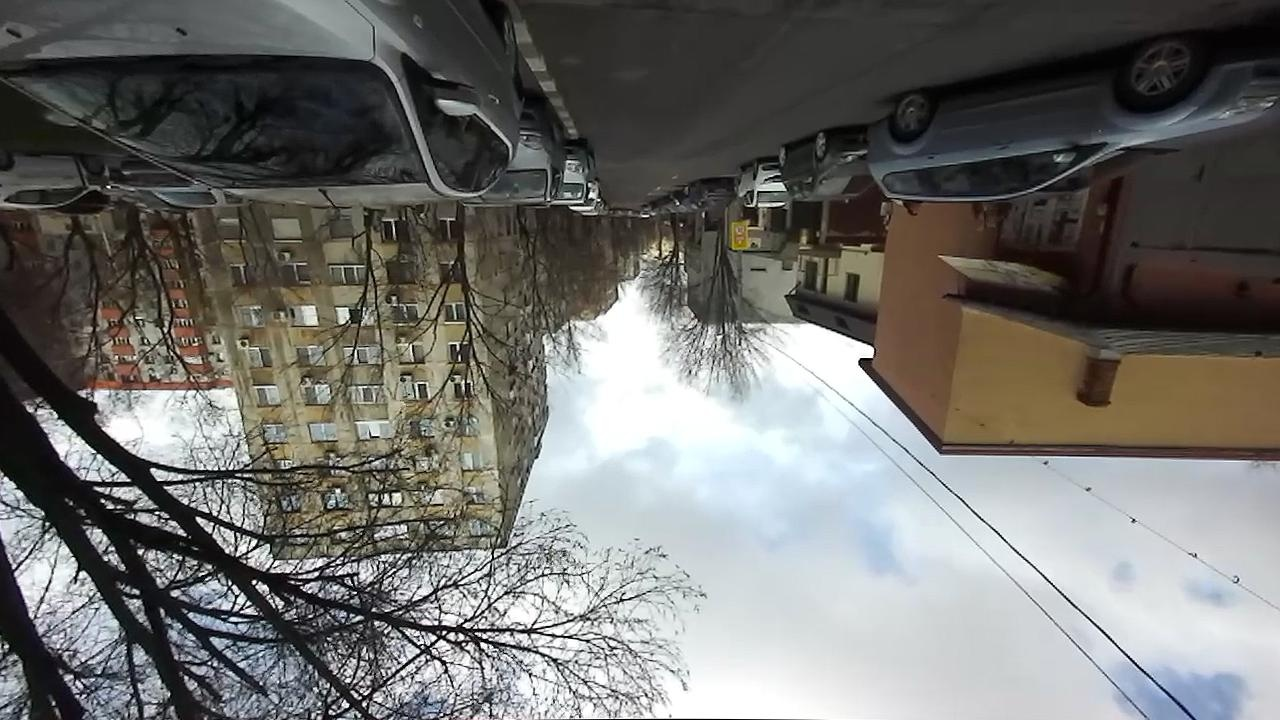pothole: (612, 0, 694, 15)
